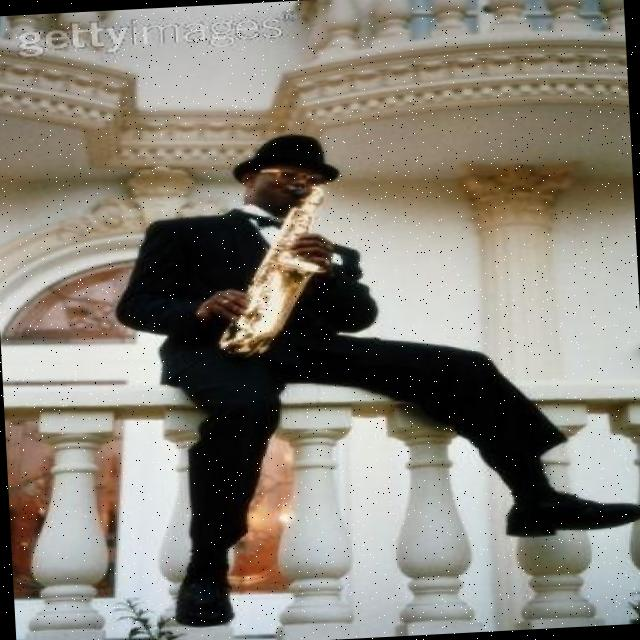saxophone: (207, 183, 348, 358)
